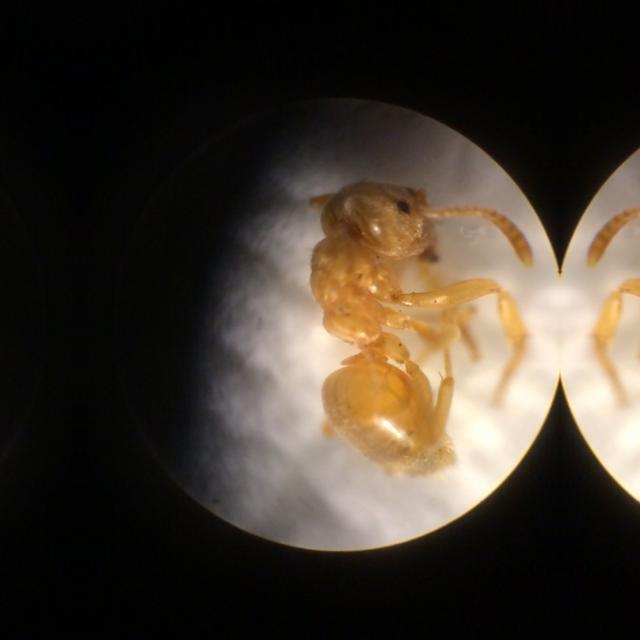Lasius: (282, 136, 532, 484), (586, 136, 640, 484)
